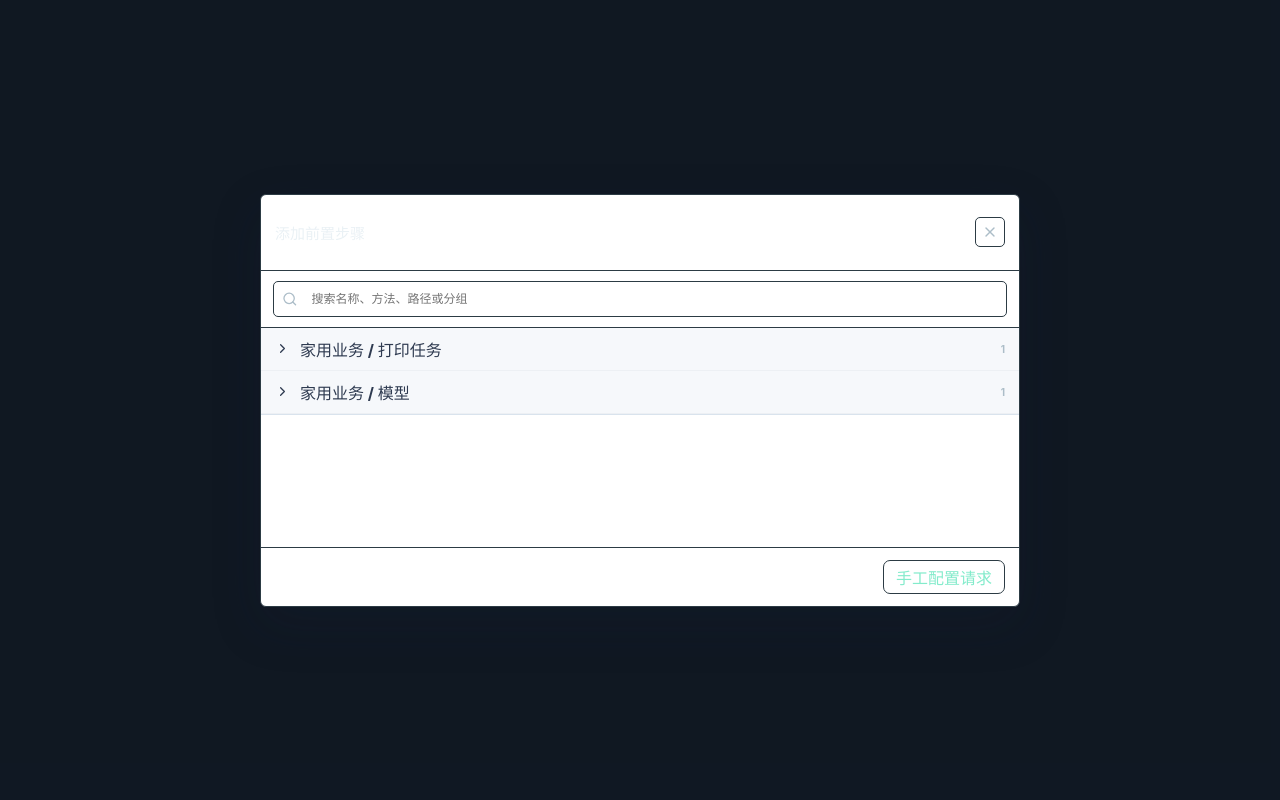
Scenario: EndpointPicker › keeps groups collapsed until the user searches or expands one
Click the button with test id "endpoint-picker-group-家用业务 / 模型": click(355, 392) [261, 370, 1019, 412]
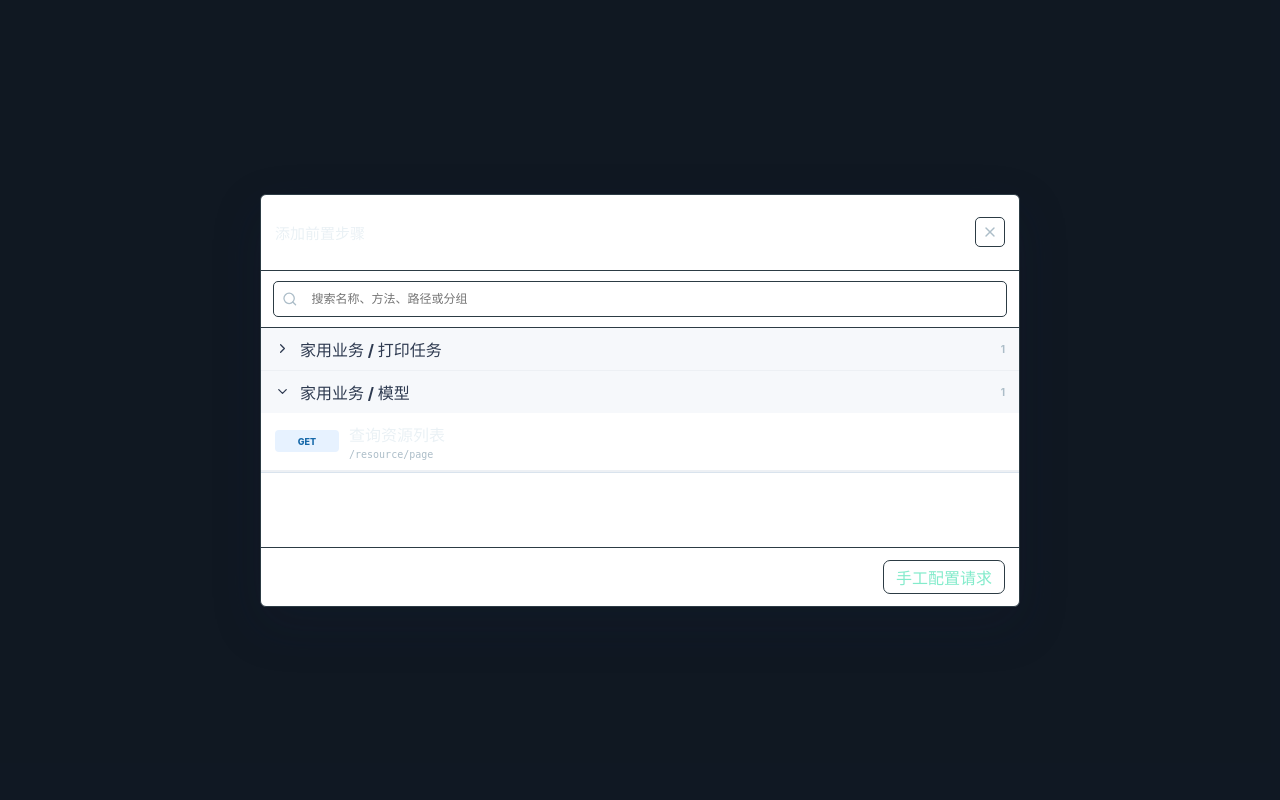
Now the button with test id "endpoint-picker-option-resource-page" is shown, box [261, 412, 1019, 470]
